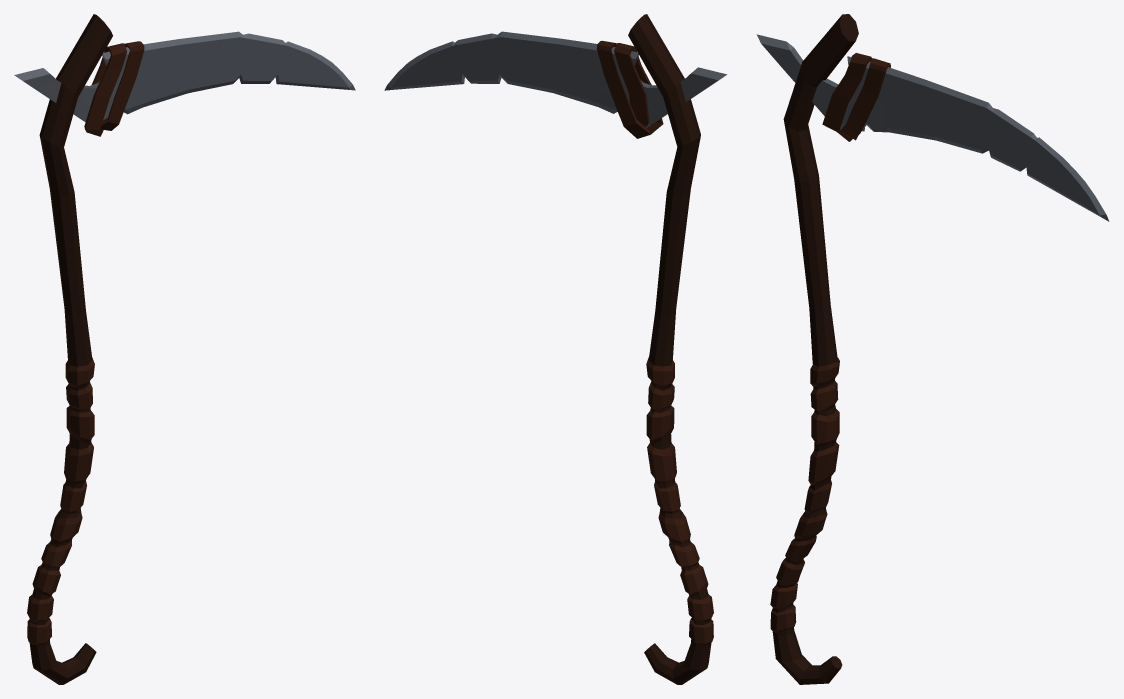
The model's file is Scythe.obj.
3 renders of one model, left to right at view 1: azimuth 30°, elevation 25°; view 2: azimuth 150°, elevation 25°; view 3: azimuth 330°, elevation 25°, orthographic. The views are drawn at different scales.
Parts seen in each view (by area): view 1: Scythe_Cylinder.005; view 2: Scythe_Cylinder.005; view 3: Scythe_Cylinder.005.
Boxes of the visible parts, box(x1,y1,x2,y2) form: Scythe_Cylinder.005: box(14, 14, 355, 684); Scythe_Cylinder.005: box(384, 14, 727, 684); Scythe_Cylinder.005: box(756, 14, 1109, 684).
Size of the model in its own units: 3.03 by 5.58 by 0.2771.
